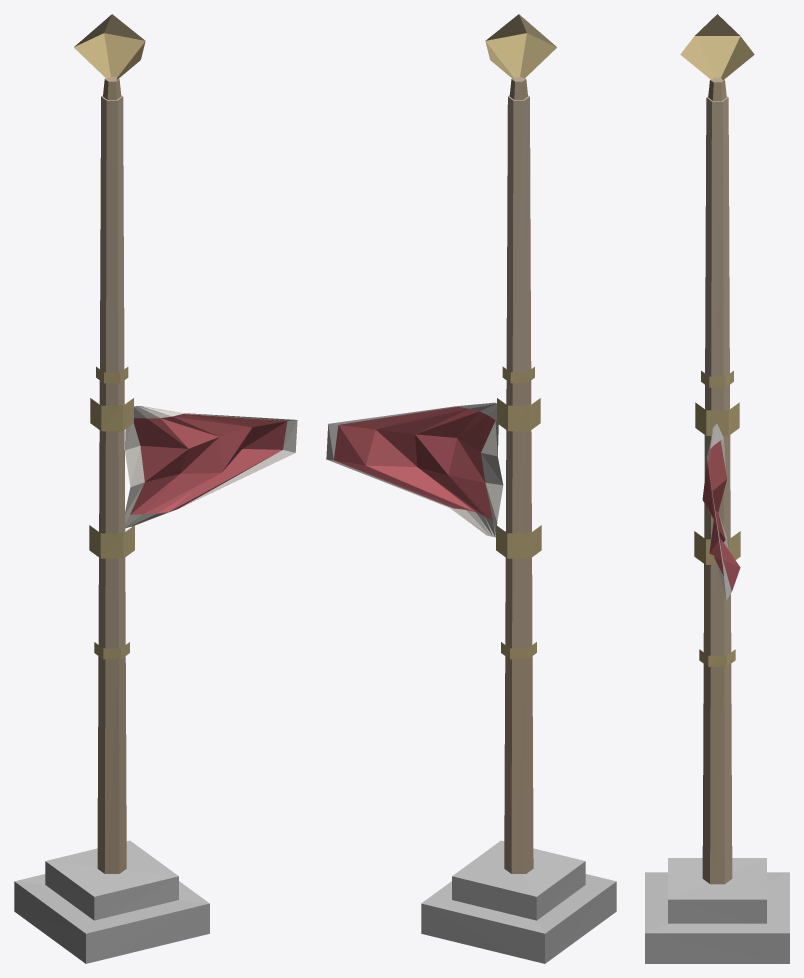
Rendered from flag.pennant.lingqi__pole.ground.gaogan__midmast.glb.
The picture shows the model from 3 angles, left to right: view 1: azimuth 30°, elevation 25°; view 2: azimuth 150°, elevation 25°; view 3: azimuth 270°, elevation 25°; orthographic projection.
Parts seen in each view (by area): view 1: flag.pennant.lingqi; view 2: flag.pennant.lingqi; view 3: flag.pennant.lingqi.
Part boxes in pixels (<box>): flag.pennant.lingqi: <box>14,14,297,963</box>; flag.pennant.lingqi: <box>326,14,616,963</box>; flag.pennant.lingqi: <box>645,14,789,963</box>.
Size of the model in its own units: 1.65 by 5.72 by 0.816.
